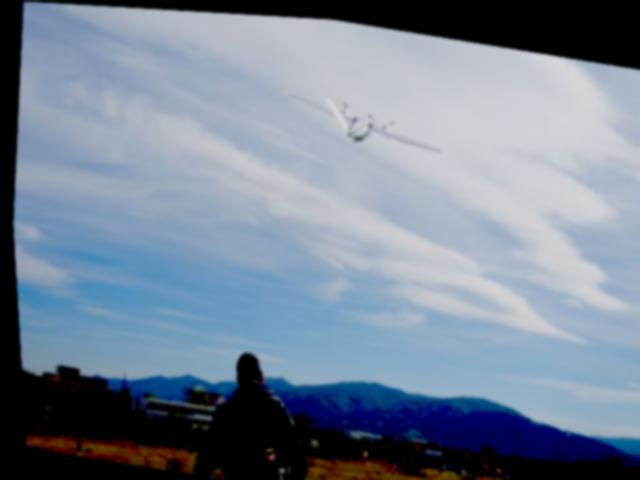uav: (275, 70, 456, 164)
